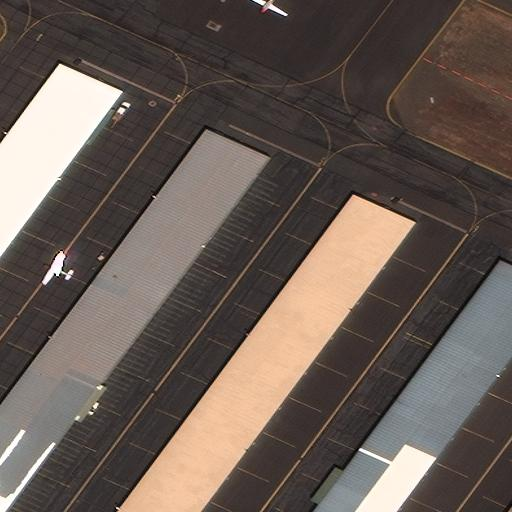Small Civil Transport: (42, 253, 72, 282), (248, 0, 285, 16)
